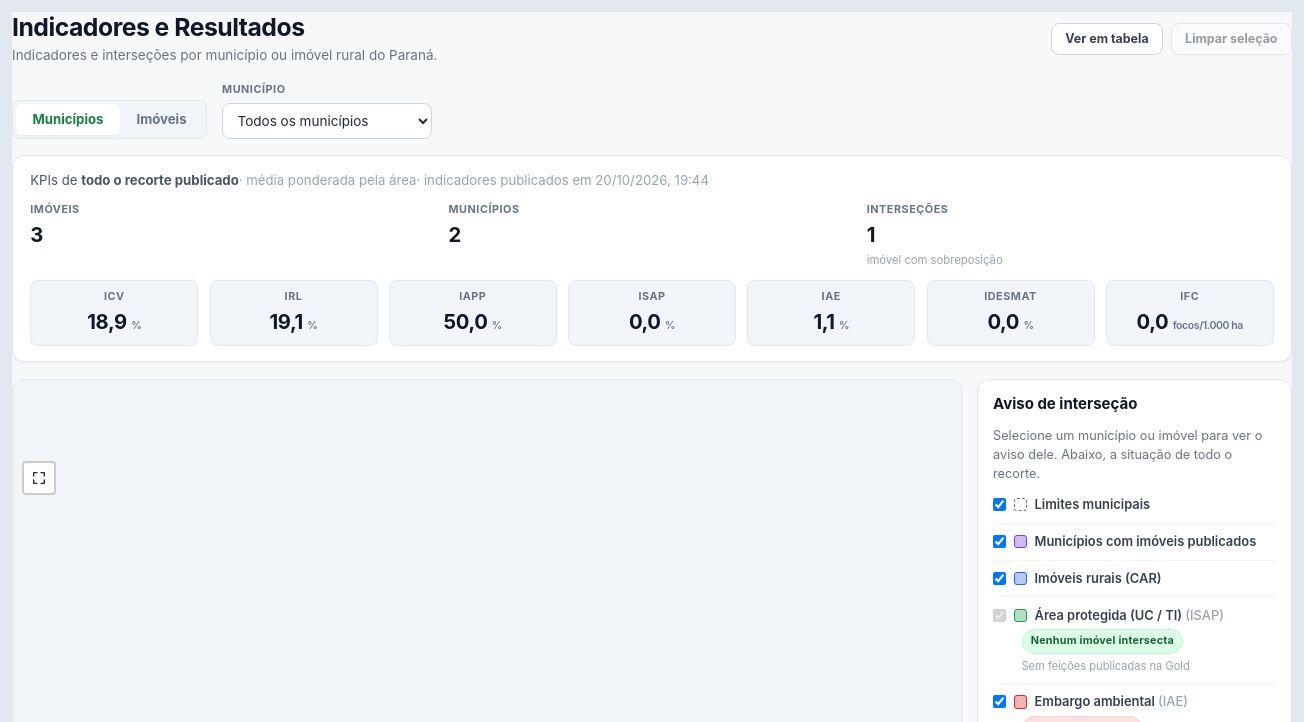
Test: ConjuntosView — mapa de cobertura › imóvel sem sobreposição e com Reserva Legal não tem alerta
The image size is (1304, 722).
Step 1. Click the tab with class "chave" showing "Imóveis" → x=162, y=119, box x1=120 y1=104 x2=203 y2=135
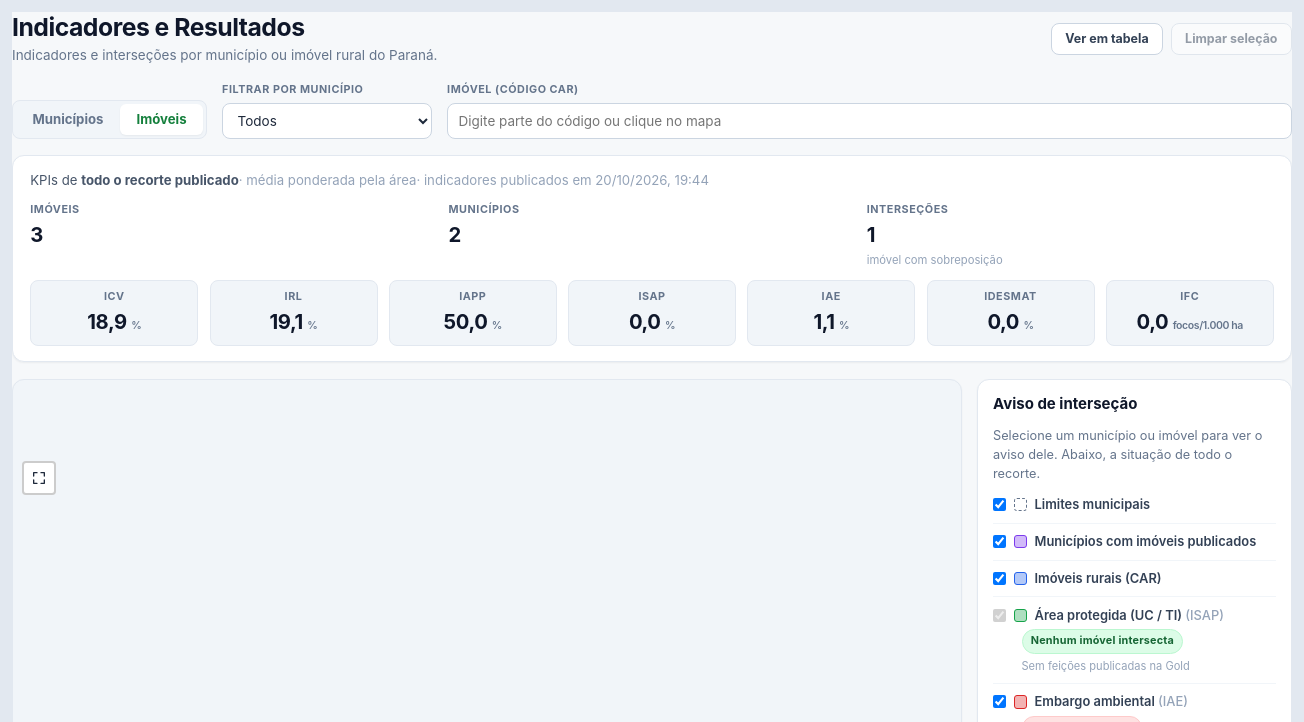
Step 2. Type "PR-4119905-B" into the search field with id "input-imovel" → x=870, y=121, box x1=447 y1=103 x2=1292 y2=139
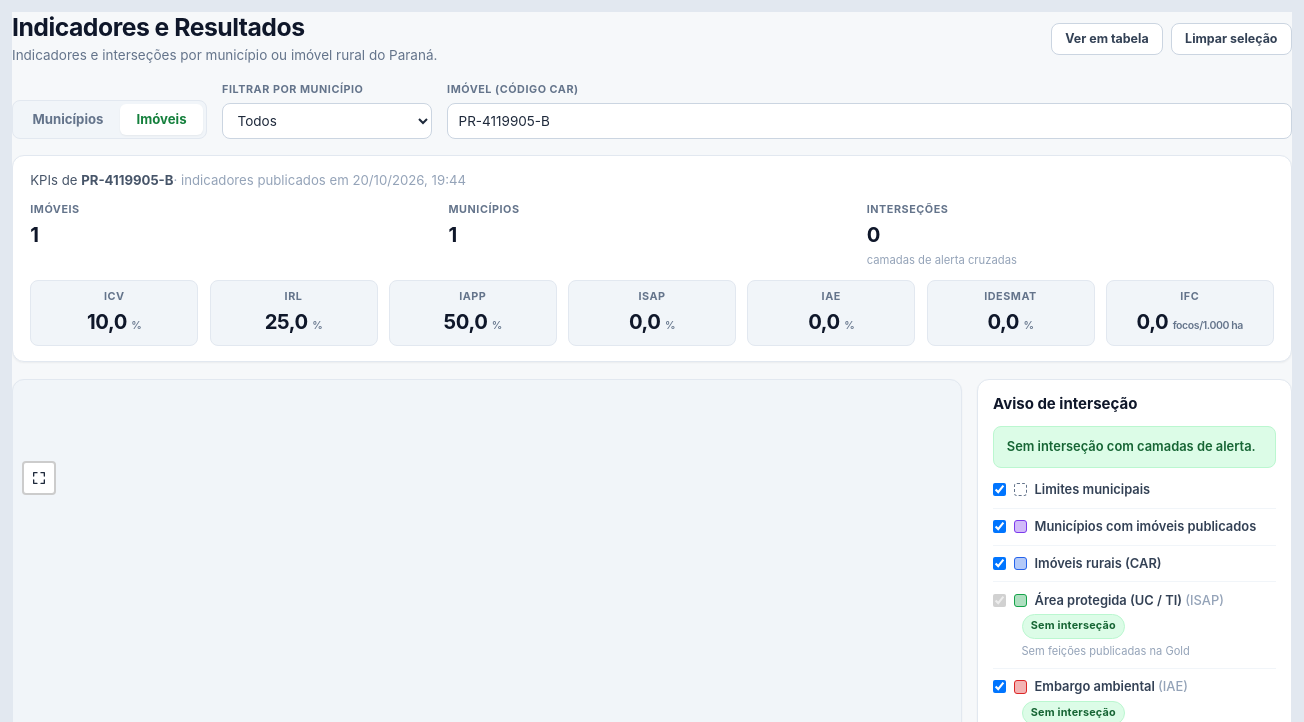
Check: the text with class "resumo-aviso" reads "Sem interseção com camadas de alerta.", box x1=1007 y1=439 x2=1256 y2=454
